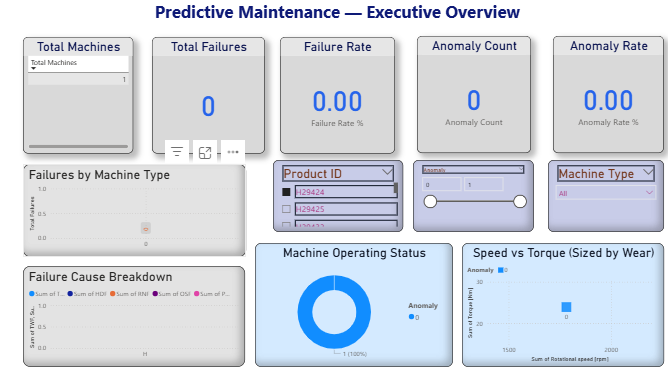

The dashboard page shown, as its layout file describes it:
{"tool":"powerbi","page":{"name":"Executive Overview","canvas":[1280,720],"ordinal":0},"visuals":[{"type":"textbox","box":[10,0,280,280],"z":0},{"type":"textbox","box":[10.4,0,1269.6,75.9],"z":1000},{"type":"card","title":"Total Failures","fields":{"Values":["Machine_data.Total Failures"]},"box":[291.1,75.9,215.1,222.4],"z":2000},{"type":"card","title":"Anomaly Count","fields":{"Values":["Machine_data.Anomaly Count"]},"box":[796.2,74.3,217.1,222.9],"z":3000},{"type":"card","title":"Anomaly Rate","fields":{"Values":["Machine_data.Anomaly Rate %"]},"box":[1055.2,74.3,211.4,222.9],"z":4000},{"type":"card","title":"Failure Rate","fields":{"Values":["Machine_data.Failure Rate %"]},"box":[535.1,75.9,218.8,222.4],"z":5000},{"type":"tableEx","title":"Total Machines","fields":{"Values":["Machine_data.Total Machines"]},"box":[45.2,75.9,209.7,222.4],"z":6000},{"type":"clusteredColumnChart","title":"Failures by Machine Type","fields":{"Category":["Machine_data.Machine failure"],"Y":["Machine_data.Total Failures"]},"box":[45.7,318.1,424.8,177.1],"z":7000},{"type":"columnChart","title":"Failure Cause Breakdown","fields":{"Category":["Machine_data.Type"],"Y":["Sum(Machine_data.TWF)","Sum(Machine_data.HDF)","Sum(Machine_data.RNF)","Sum(Machine_data.OSF)","Sum(Machine_data.PWF)"]},"box":[45.7,512.4,422.9,192.4],"z":8000},{"type":"donutChart","title":"Machine Operating Status","fields":{"Category":["Machine_data.Anomaly"],"Y":["Machine_data.Normal Count","Machine_data.Anomaly Count"]},"box":[487.6,468.6,377.1,236.2],"z":9000},{"type":"scatterChart","title":"Speed vs Torque (Sized by Wear)","fields":{"X":["Sum(Machine_data.Rotational speed [rpm])"],"Y":["Sum(Machine_data.Torque [Nm])"],"Size":["Sum(Machine_data.Tool wear [min])"],"Series":["Machine_data.Anomaly"]},"box":[881.9,468.6,384.8,236.2],"z":10000},{"type":"slicer","fields":{"Values":["Machine_data.Type"]},"box":[1045.7,310.5,221,137.1],"z":11000},{"type":"slicer","fields":{"Values":["Machine_data.Product ID"]},"box":[521.9,310.5,247.6,137.1],"z":12000},{"type":"slicer","fields":{"Values":["Machine_data.Anomaly"]},"box":[788.6,310.5,230.5,137.1],"z":13000}]}

Visuals, with their boxes in screenshot pixels (x1, y1, x2, y2), scaled from the page's 1280x720 canvas onto the 668x371 screenshot:
textbox: box(5, 0, 151, 144)
textbox: box(5, 0, 667, 39)
"Total Failures" card: box(152, 39, 264, 154)
"Anomaly Count" card: box(416, 38, 529, 153)
"Anomaly Rate" card: box(551, 38, 661, 153)
"Failure Rate" card: box(279, 39, 393, 154)
"Total Machines" tableEx: box(24, 39, 133, 154)
"Failures by Machine Type" clusteredColumnChart: box(24, 164, 246, 255)
"Failure Cause Breakdown" columnChart: box(24, 264, 245, 363)
"Machine Operating Status" donutChart: box(254, 241, 451, 363)
"Speed vs Torque (Sized by Wear)" scatterChart: box(460, 241, 661, 363)
slicer - Machine_data.Type: box(546, 160, 661, 231)
slicer - Machine_data.Product ID: box(272, 160, 402, 231)
slicer - Machine_data.Anomaly: box(412, 160, 532, 231)
